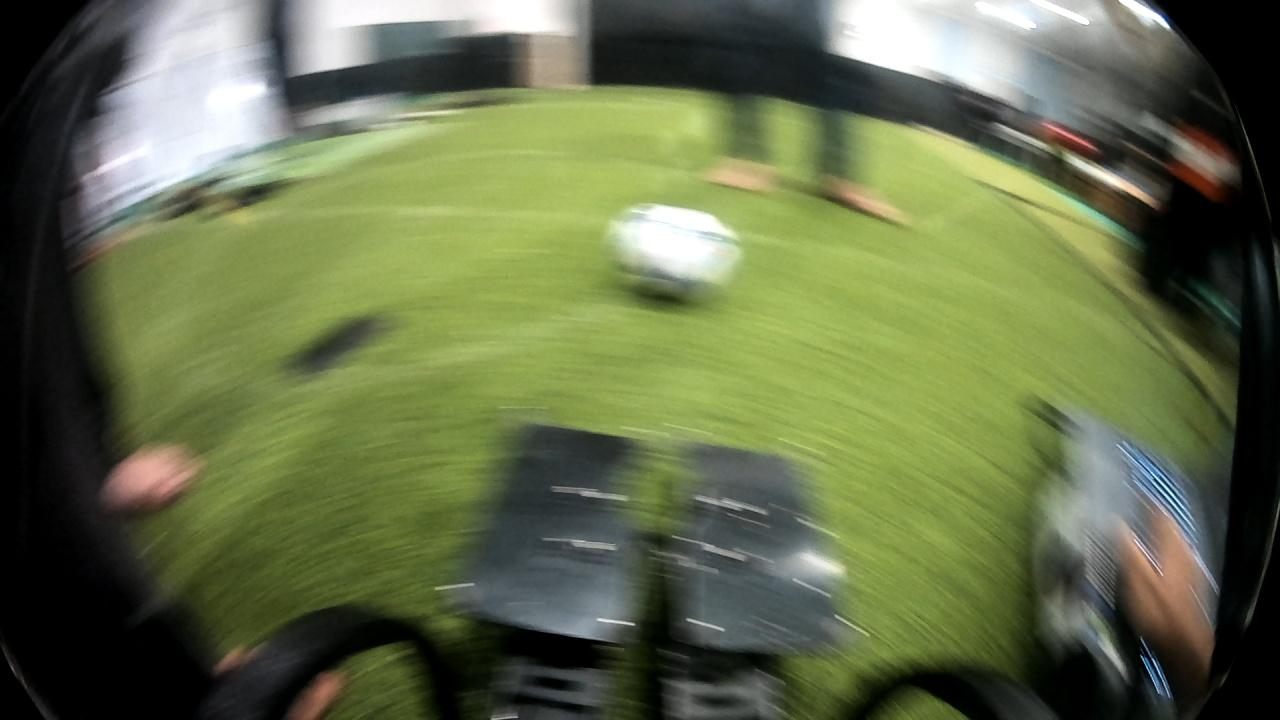ball: (589, 189, 758, 306)
